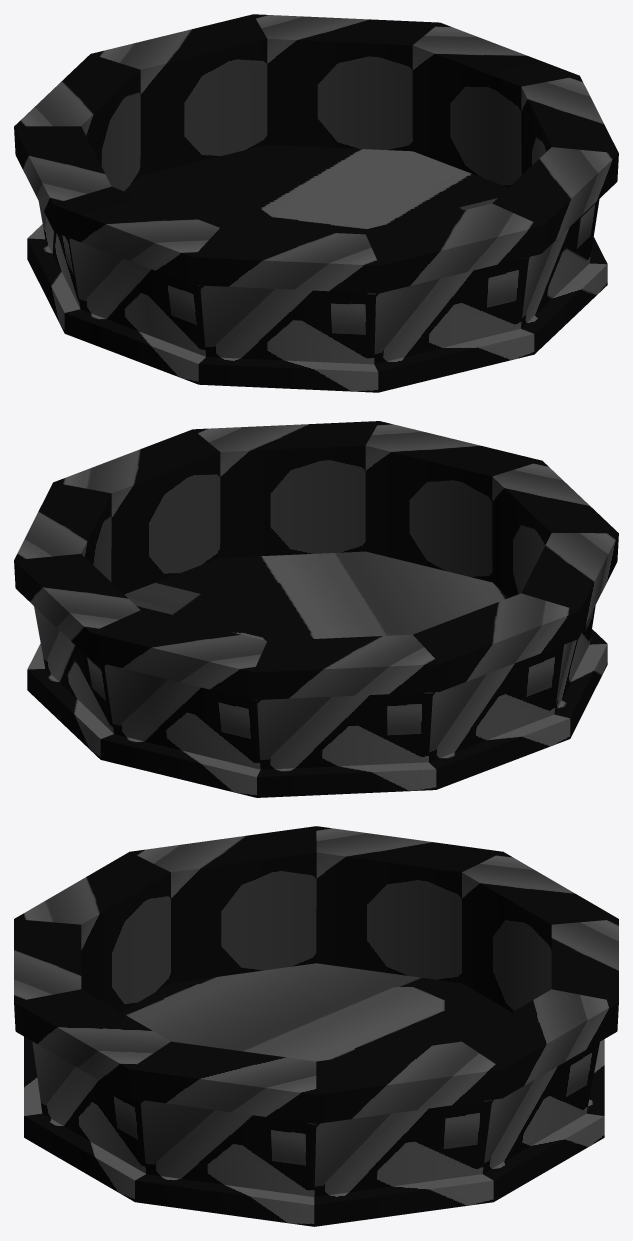
Rendered from WellWall_MESH_07.fbx.
The picture shows the model from 3 angles, top to bottom: view 1: azimuth 30°, elevation 25°; view 2: azimuth 150°, elevation 25°; view 3: azimuth 270°, elevation 25°; orthographic projection. The views are drawn at different scales.
Visible parts, largest first — view 1: WellWall_MESH_07; view 2: WellWall_MESH_07; view 3: WellWall_MESH_07.
Part boxes in pixels (box(x1,y1,x2,y2)): WellWall_MESH_07: box(14, 14, 618, 392); WellWall_MESH_07: box(14, 421, 618, 797); WellWall_MESH_07: box(14, 826, 618, 1226).
Bounding box in the file's own units: 398 × 97.18 × 378.
